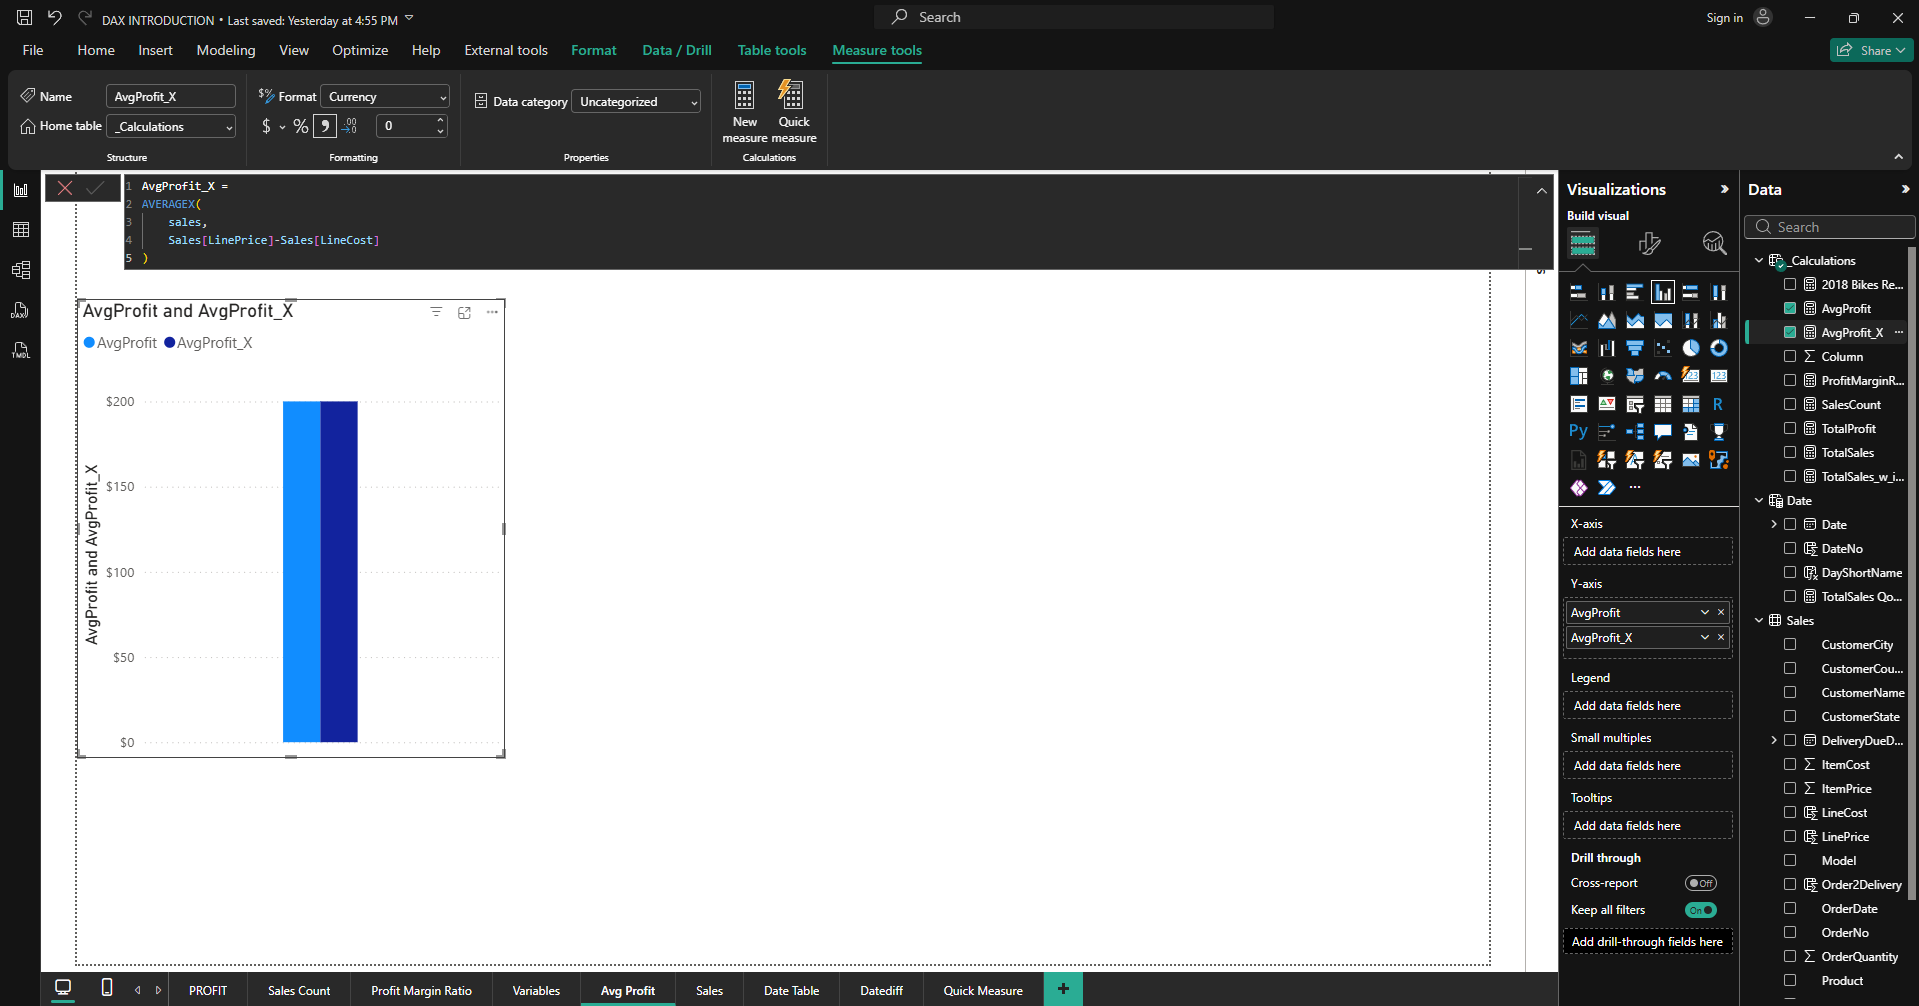

The dashboard page shown, as its layout file describes it:
{"tool":"powerbi","page":{"name":"Avg Profit","canvas":[1280,720],"ordinal":4},"visuals":[{"type":"clusteredColumnChart","fields":{"Y":["_Calculations.AvgProfit","_Calculations.AvgProfit_X"]},"box":[0,117,388.1,416.2],"z":0}]}

Visuals, with their boxes on the page's 1280x720 design canvas (x1, y1, x2, y2). These are canvas units, not pixel positions in the 1919x1006 screenshot, which may show the page scaled, cropped or inside an application window:
clusteredColumnChart - _Calculations.AvgProfit x _Calculations.AvgProfit_X: bbox=(0, 117, 388, 533)
